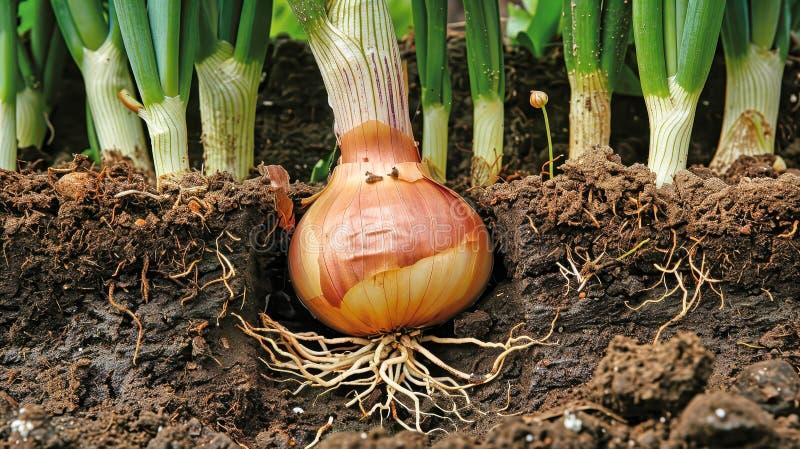Onion: (286, 130, 492, 337)
